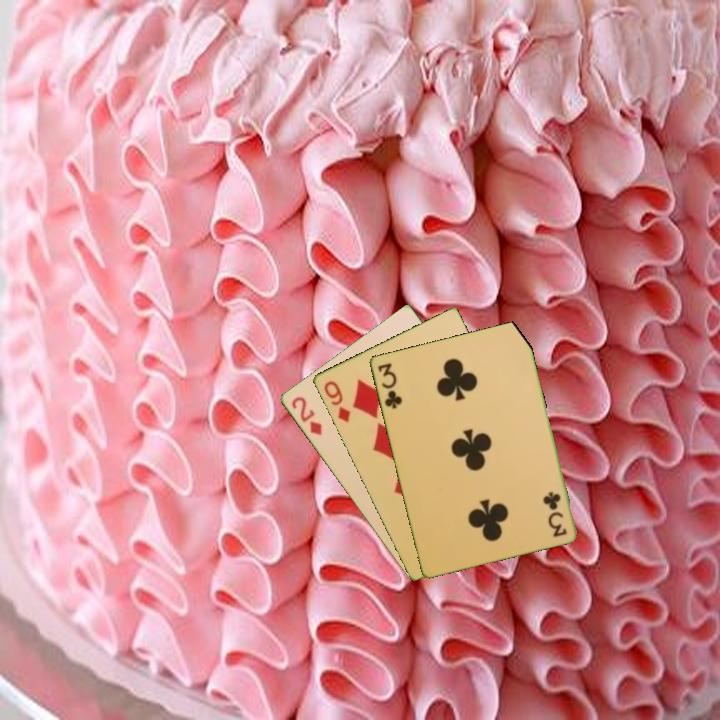2d: (288, 393, 325, 439)
3c: (374, 359, 405, 411), (541, 488, 569, 540)
9d: (320, 377, 353, 425)
